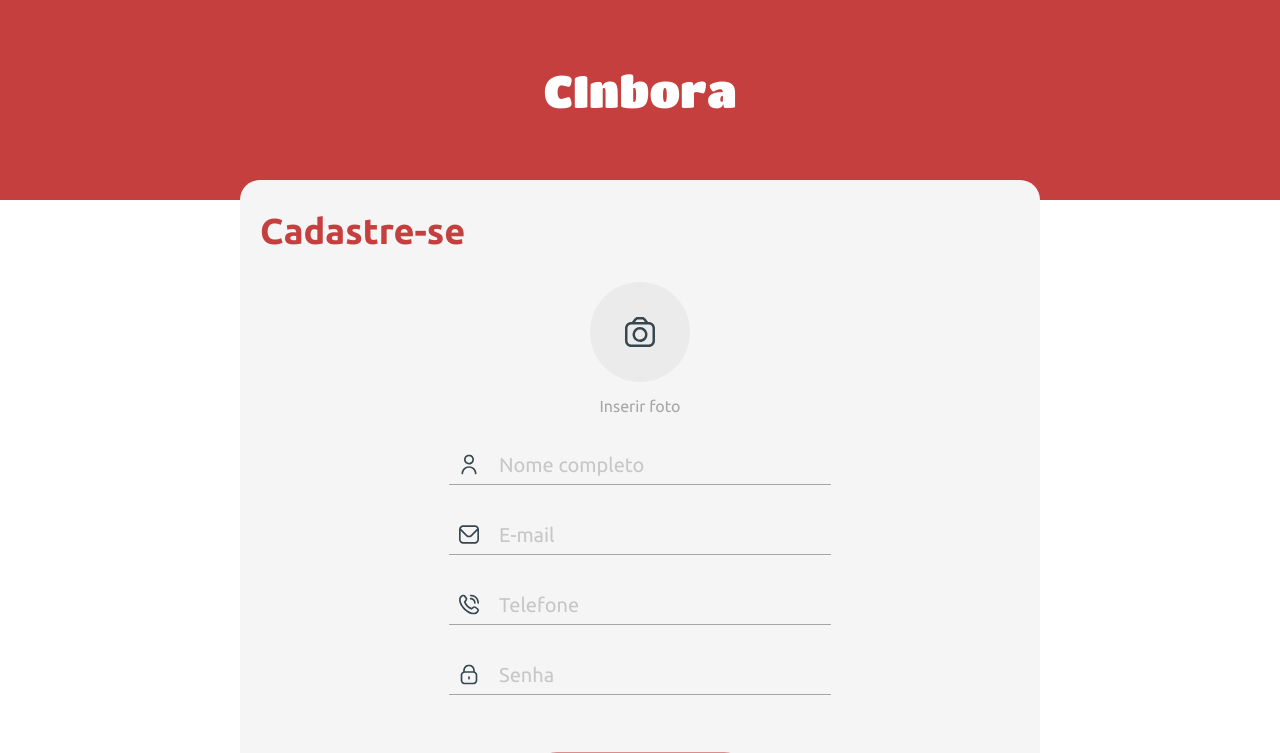
Sign up › Should show error mensage in number if the length is smaller than 11
Type "0000000000" into the field with placeholder "Telefone".
click(660, 605); type("0000000000")  # box [499,585,821,624]
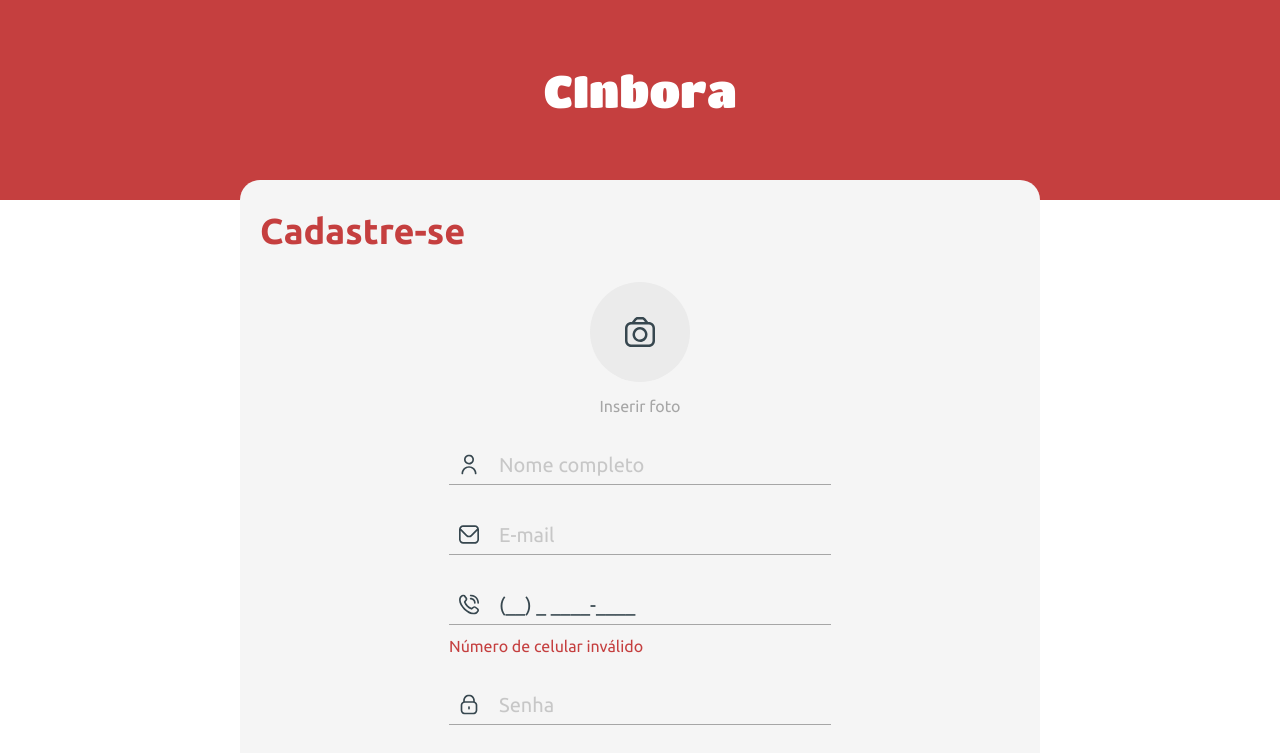
Check: the text "Número de celular inválido" is shown, box [449,637,643,655]
